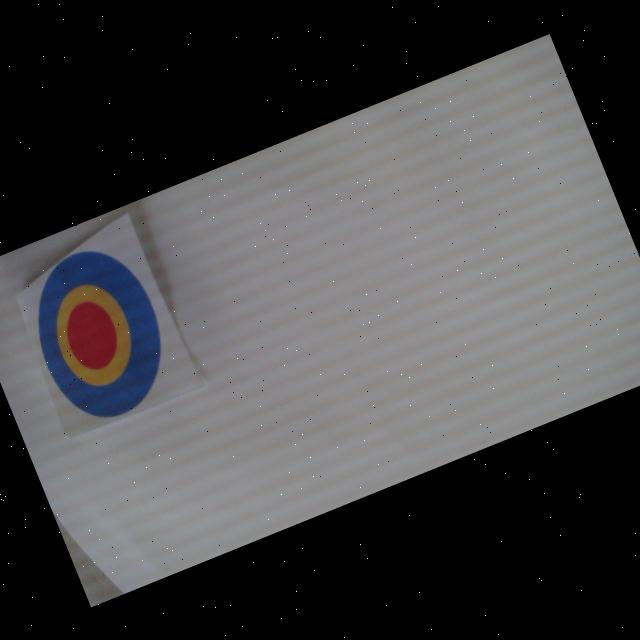COGNITIVE: (12, 232, 185, 433)
